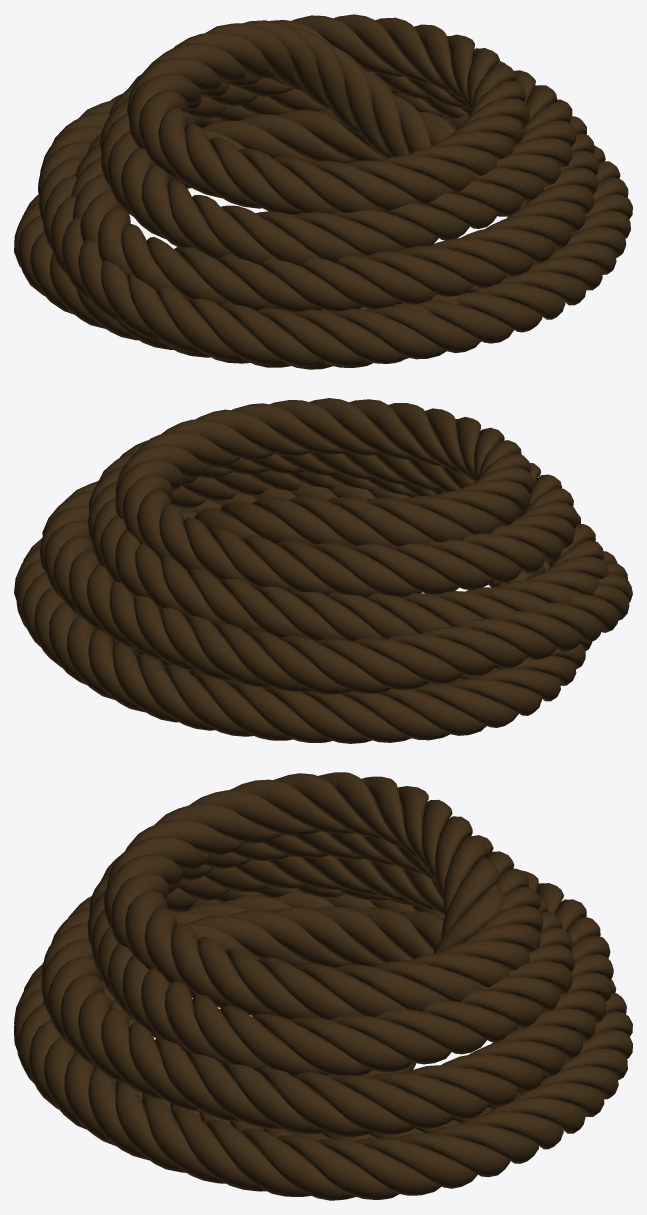
File: Seil1.fbx
The picture shows the model from 3 angles, top to bottom: view 1: azimuth 30°, elevation 25°; view 2: azimuth 150°, elevation 25°; view 3: azimuth 270°, elevation 25°; orthographic projection. The views are drawn at different scales.
Visible parts, largest first — view 1: Circle; view 2: Circle; view 3: Circle.
Part boxes in pixels (x1,y1,x2,y2): Circle: (14,14,632,369); Circle: (14,398,632,743); Circle: (14,772,632,1200).
Size of the model in its own units: 266 by 93.87 by 242.
